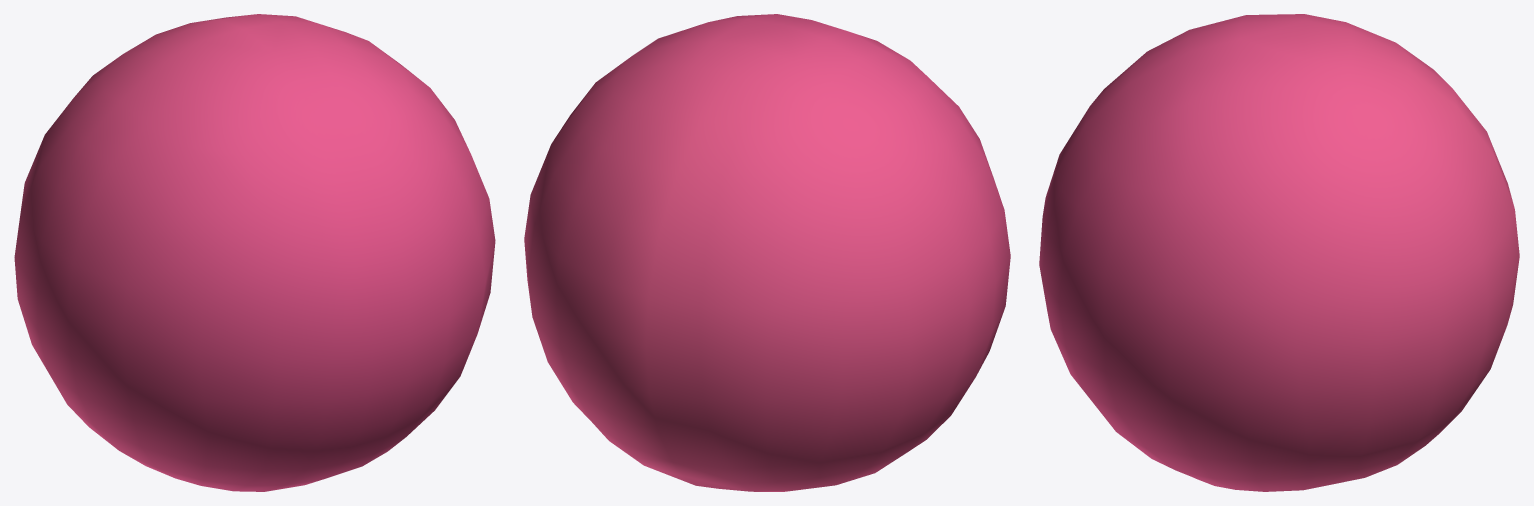
The model's file is headEnemy.fbx.
3 views of the same model, side by side, from view 1: azimuth 30°, elevation 25°; view 2: azimuth 150°, elevation 25°; view 3: azimuth 270°, elevation 25° (orthographic).
Parts seen in each view (by area): view 1: Stickman_heads_sphere.004; view 2: Stickman_heads_sphere.004; view 3: Stickman_heads_sphere.004.
Boxes of the visible parts, left/top/right/bottom form: Stickman_heads_sphere.004: left=14, top=14, right=495, bottom=491; Stickman_heads_sphere.004: left=524, top=14, right=1010, bottom=491; Stickman_heads_sphere.004: left=1039, top=14, right=1519, bottom=491.
Size of the model in its own units: 0.5987 by 0.5906 by 0.5932.
1 material, 1 textured.
